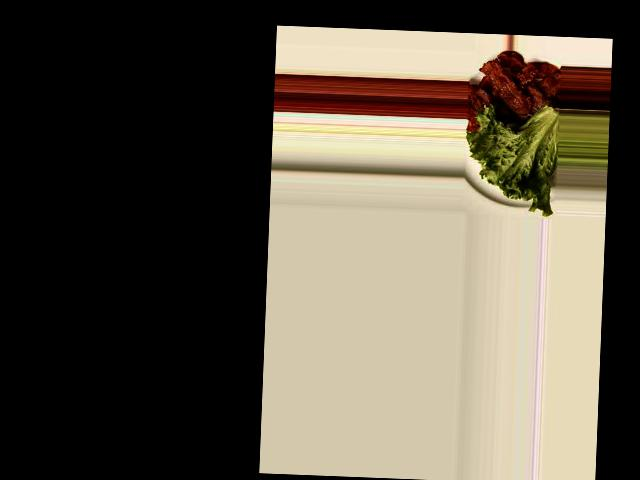lettuce: (471, 91, 577, 198)
